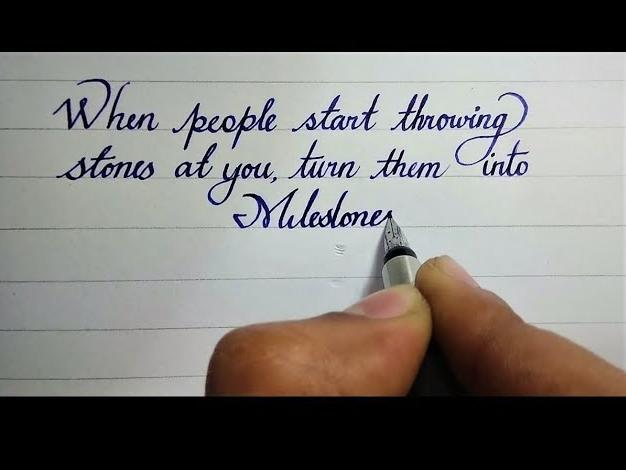text: (51, 75, 530, 168), (53, 137, 531, 208), (232, 186, 394, 232)
